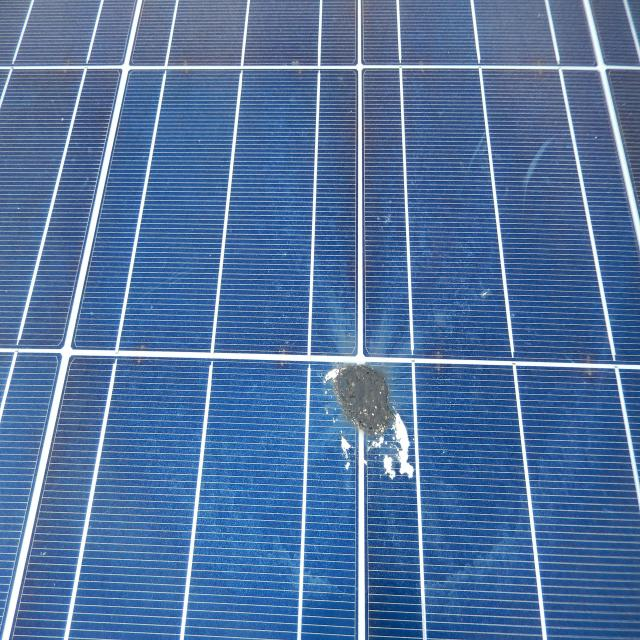dust-solar-panel: (178, 262, 576, 591)
